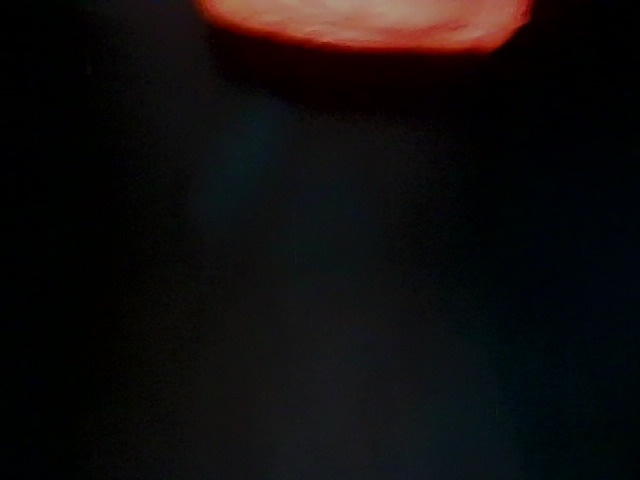QTLJ: (483, 151, 634, 333)
